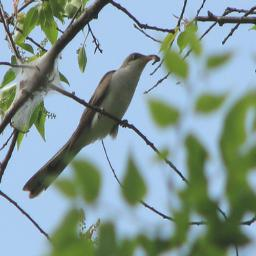Cuckoo: (22, 49, 158, 195)
